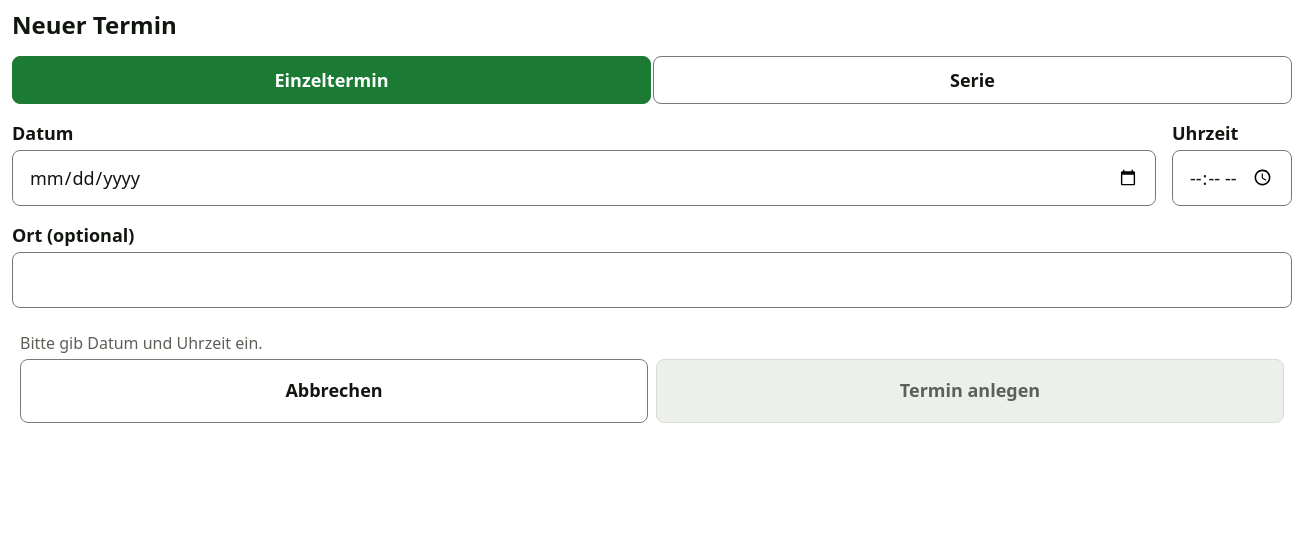
Test: AdminTerminNeu – Einzeltermin › der Fehler verschwindet mit der nächsten Eingabe
Type "2099-03-02" into the date field with test id "termin-datum" at (584, 178), box [12,150,1156,206]
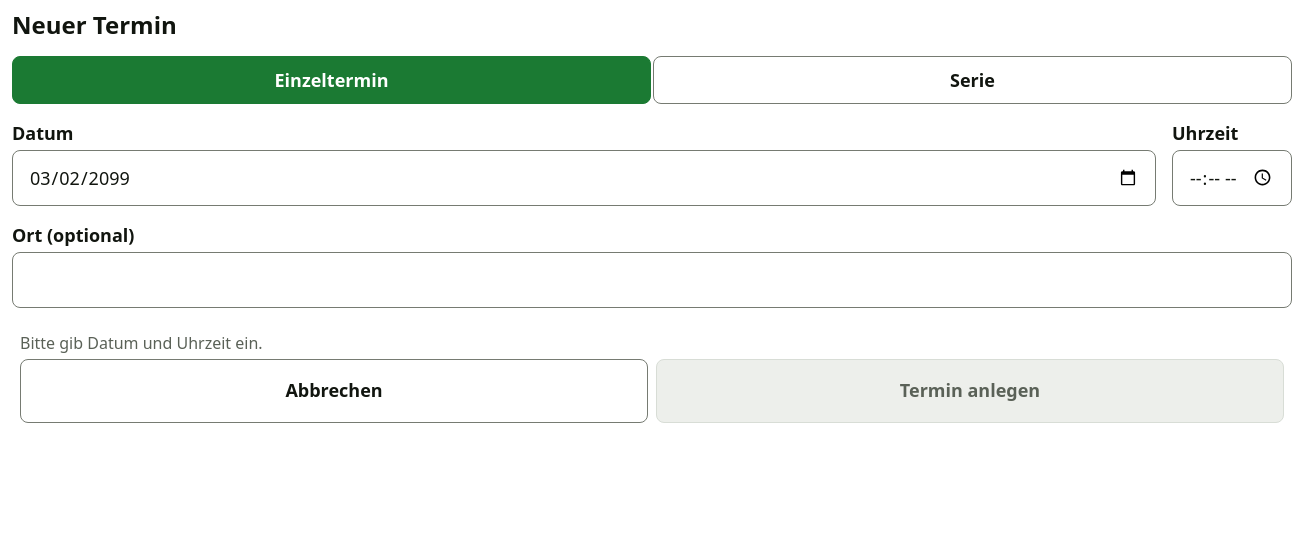
Type "20:00" into the time field with test id "termin-uhrzeit" at (1232, 178), box [1172,150,1292,206]
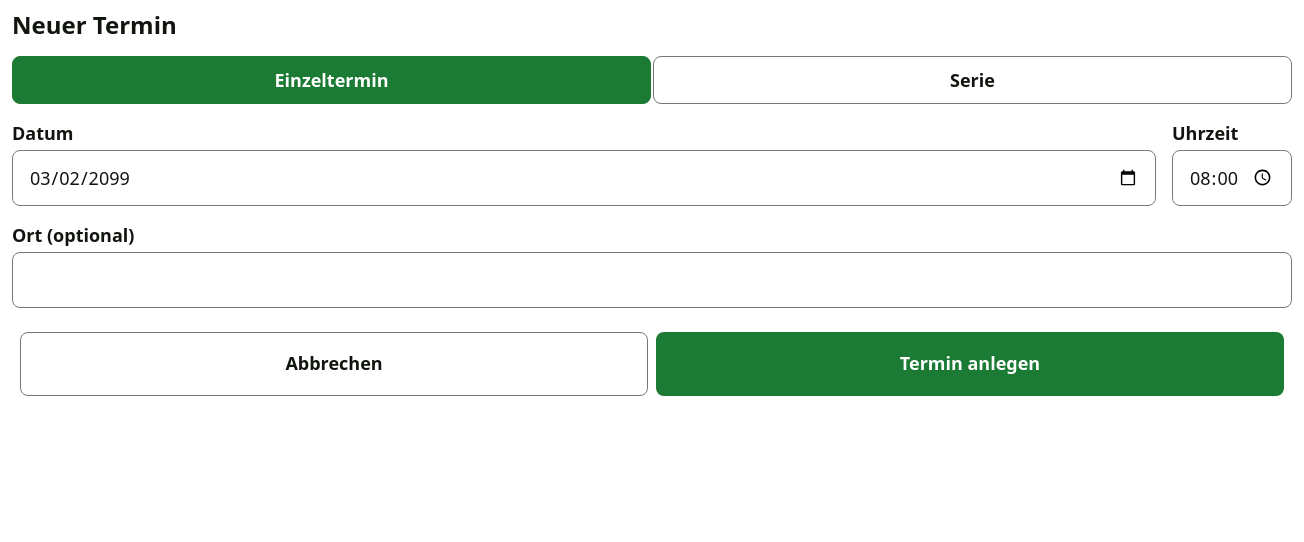
Click the button with test id "admin-termin-neu-absenden" at (970, 364), box [656,332,1284,396]
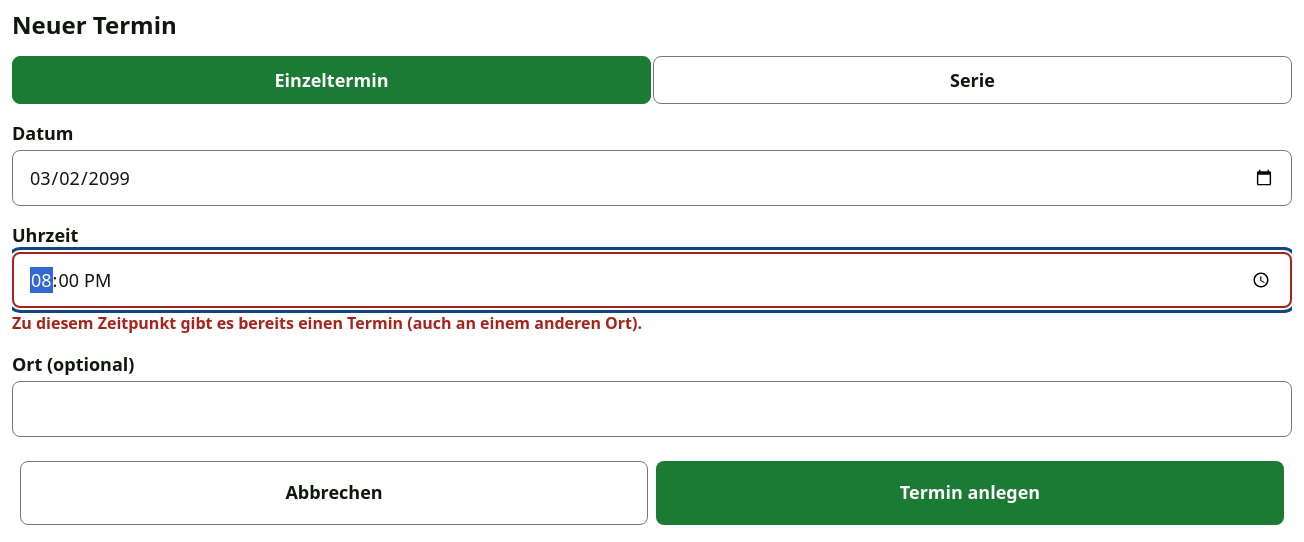
Now the text with test id "termin-uhrzeit-fehler" is shown, box [12,312,642,334]
Replace the text in the time field with test id "termin-uhrzeit" with "21:00" at (652, 280), box [12,252,1292,308]
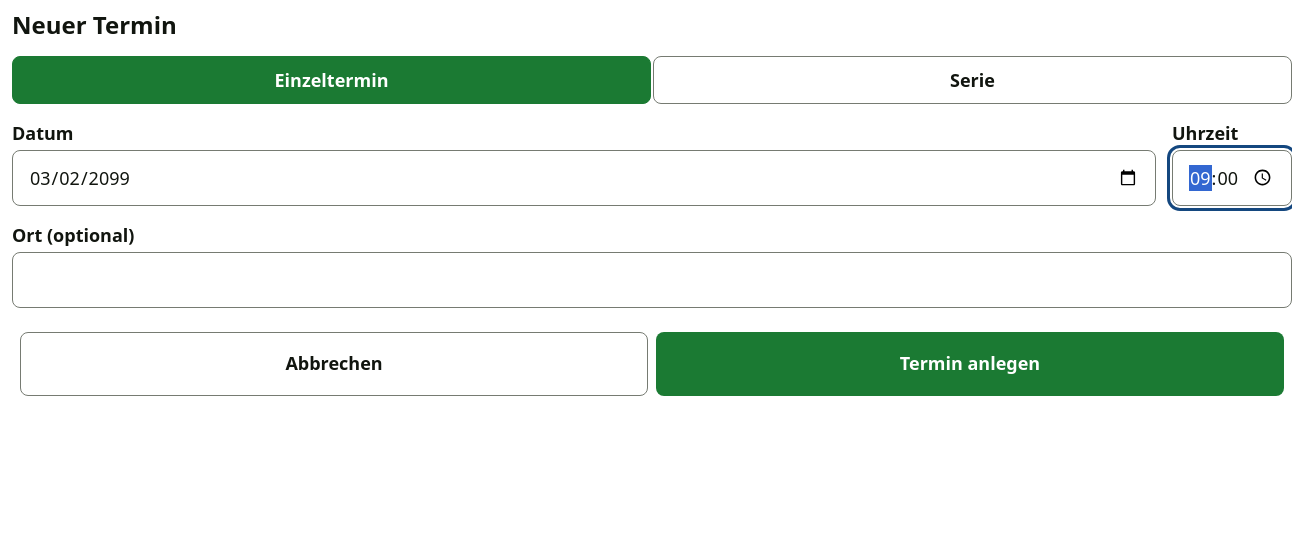
Now the text with test id "termin-uhrzeit-fehler" is gone
